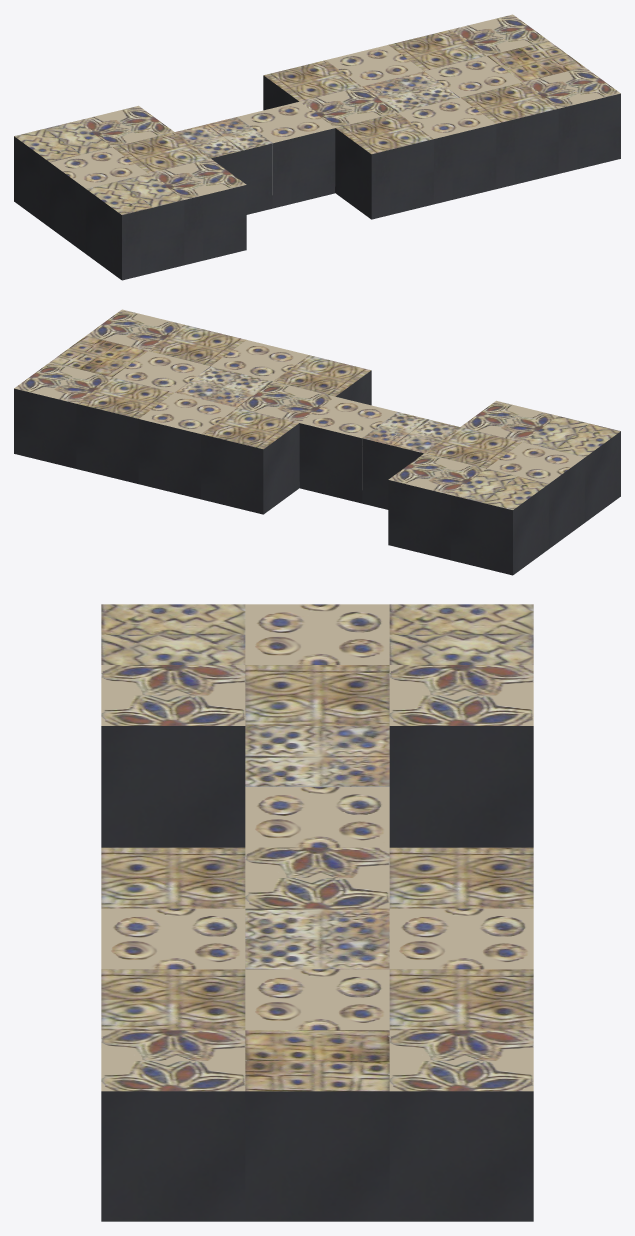
Rendered from Board-10-29.fbx.
3 views of the same model, one above another, from view 1: azimuth 30°, elevation 25°; view 2: azimuth 150°, elevation 25°; view 3: azimuth 270°, elevation 25° (orthographic). The views are drawn at different scales.
Parts seen in each view (by area): view 1: E01, E00, N04, E02, E04, E05, E03, N05, P04, N07, P00, N03 (+8 smaller); view 2: P04, P00, N04, P02, P05, P01, P03, N05, E01, N07, E00, N03 (+8 smaller); view 3: N00, P03, E03, P05, E05, N01, N02, N03, N04, P02, P00, E00 (+8 smaller).
Boxes of the visible parts, bbox=[...] form: E01: bbox=[86, 173, 184, 280]; E00: bbox=[335, 113, 433, 219]; N04: bbox=[237, 101, 335, 208]; E02: bbox=[460, 82, 558, 188]; E04: bbox=[398, 97, 496, 204]; E05: bbox=[149, 158, 246, 265]; E03: bbox=[523, 67, 620, 173]; N05: bbox=[175, 117, 272, 214]; P04: bbox=[14, 121, 111, 227]; N07: bbox=[50, 147, 147, 253]; P00: bbox=[263, 60, 361, 110]; N03: bbox=[300, 86, 397, 192]; P04: bbox=[450, 468, 548, 575]; P00: bbox=[201, 408, 299, 514]; N04: bbox=[299, 396, 397, 503]; P02: bbox=[76, 377, 174, 483]; P05: bbox=[388, 453, 485, 560]; P01: bbox=[138, 392, 236, 499]; P03: bbox=[14, 362, 111, 468]; N05: bbox=[362, 412, 459, 509]; E01: bbox=[523, 416, 620, 522]; N07: bbox=[487, 442, 584, 548]; E00: bbox=[273, 355, 371, 405]; N03: bbox=[237, 381, 334, 487]; N00: bbox=[245, 1030, 389, 1221]; P03: bbox=[389, 1030, 533, 1221]; E03: bbox=[101, 1030, 245, 1221]; P05: bbox=[389, 665, 533, 847]; E05: bbox=[101, 665, 245, 847]; N01: bbox=[245, 969, 389, 1030]; N02: bbox=[245, 908, 389, 969]; N03: bbox=[245, 847, 389, 908]; N04: bbox=[245, 786, 389, 847]; P02: bbox=[389, 969, 533, 1030]; P00: bbox=[389, 847, 533, 908]; E00: bbox=[101, 847, 245, 908].
Size of the model in its own units: 8 by 1 by 3.
Materials: 24 (22 with a texture image).
